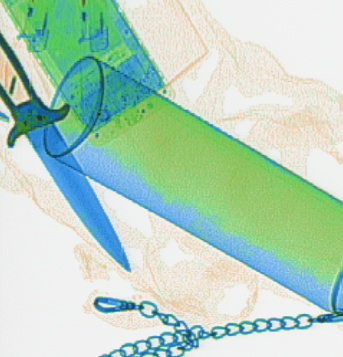knife: (1, 33, 129, 272)
lighter: (13, 1, 55, 52), (76, 1, 108, 54)
pressure: (42, 55, 341, 316)
